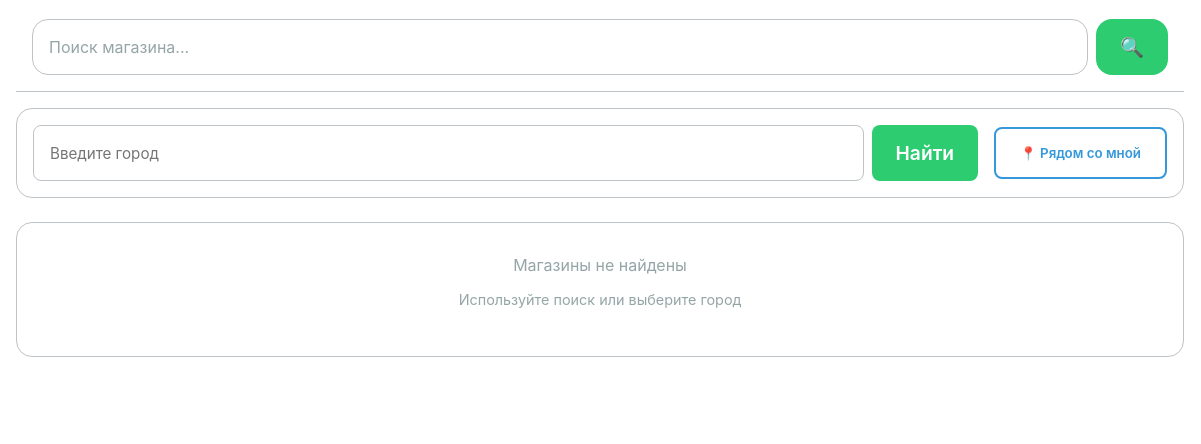
Test: ShopsPage › shows a search error message on failure
Type "root" into the field with placeholder "Поиск магазина...".
click(560, 47); type("root")  # box [32,19,1088,75]
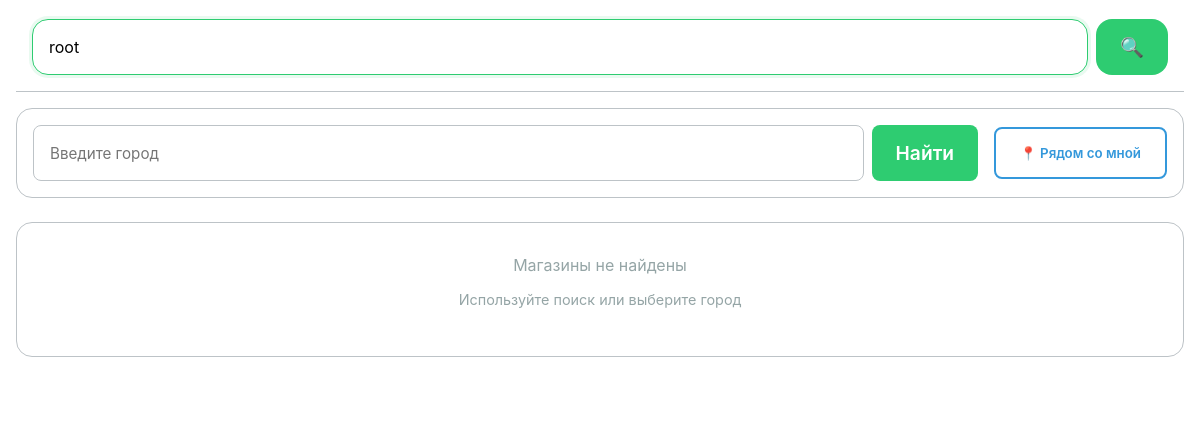
Click the button "🔍".
click(1132, 47)  # box [1096,19,1168,75]
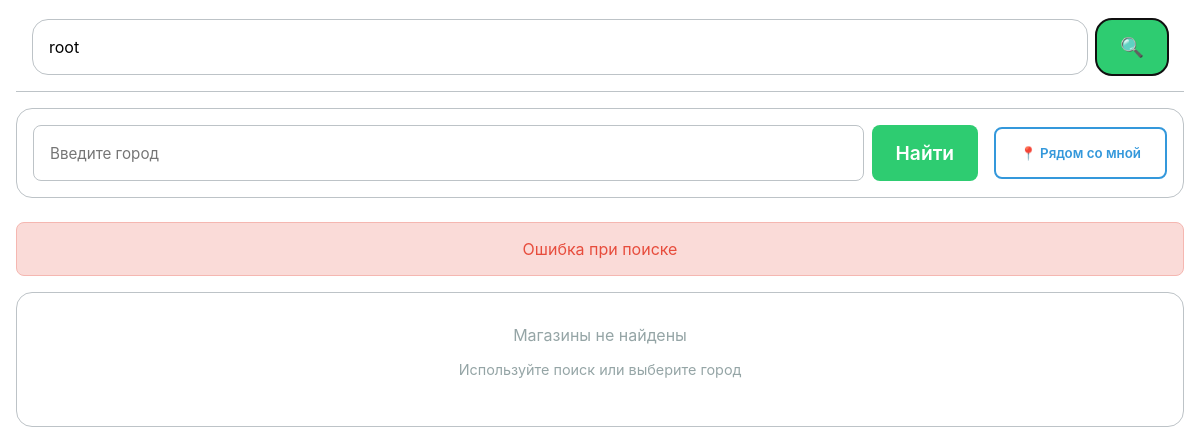
Expected: the text "Ошибка при поиске" is shown, [16,222,1184,276]
